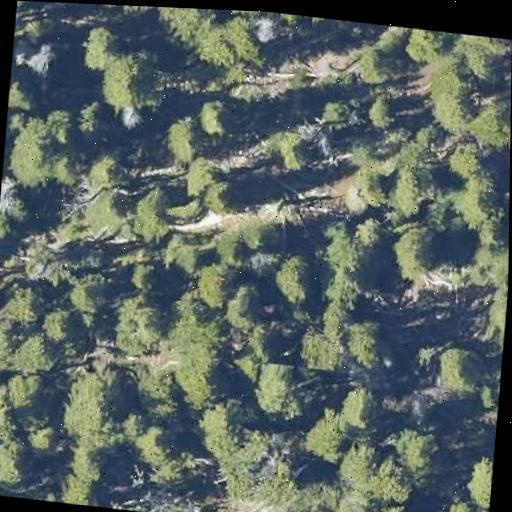tree-top: (51, 366, 132, 458), (215, 431, 301, 512), (1, 106, 77, 197), (90, 45, 164, 124), (335, 442, 419, 511), (105, 284, 177, 362), (443, 166, 510, 245), (242, 354, 309, 429), (0, 249, 56, 330), (293, 308, 351, 380), (19, 298, 79, 364), (423, 341, 486, 403), (176, 156, 244, 212), (379, 421, 440, 482), (7, 219, 74, 274), (127, 415, 186, 477), (296, 403, 352, 468), (388, 219, 445, 282), (425, 59, 477, 128), (342, 311, 397, 374), (272, 244, 323, 311), (169, 97, 221, 159), (175, 342, 228, 399), (157, 107, 207, 166), (334, 380, 385, 436), (5, 326, 56, 381), (209, 12, 257, 69), (464, 230, 509, 290), (471, 279, 508, 351), (0, 322, 45, 381), (387, 160, 432, 219), (121, 487, 227, 512), (190, 258, 238, 313), (220, 279, 268, 332), (468, 94, 511, 151), (127, 189, 171, 244), (79, 146, 124, 198), (327, 264, 373, 313), (0, 280, 45, 330), (193, 399, 243, 443), (443, 133, 488, 181), (165, 232, 214, 276), (87, 185, 130, 234), (0, 434, 36, 492), (461, 449, 494, 512), (192, 92, 233, 141), (19, 409, 59, 456), (269, 12, 353, 34), (38, 303, 78, 347), (347, 170, 385, 216), (273, 128, 311, 167), (354, 43, 391, 83), (126, 259, 163, 298), (172, 297, 208, 337), (85, 26, 117, 70), (240, 250, 284, 282), (0, 170, 26, 224), (362, 91, 397, 131), (234, 217, 274, 252), (17, 10, 53, 48), (71, 444, 109, 480), (464, 39, 501, 75), (208, 234, 245, 270), (327, 229, 361, 268), (32, 40, 67, 76), (0, 378, 19, 444), (62, 475, 101, 507), (410, 29, 444, 64), (8, 73, 35, 116), (429, 491, 484, 512), (175, 8, 217, 35), (358, 213, 387, 251), (80, 97, 107, 137), (77, 280, 107, 315), (250, 11, 280, 45), (416, 120, 444, 156), (333, 488, 373, 512), (320, 96, 349, 129), (471, 35, 510, 59), (487, 350, 502, 408), (0, 314, 10, 378), (100, 4, 160, 12), (155, 7, 193, 18), (379, 502, 413, 512), (222, 10, 256, 18), (16, 1, 28, 17)
